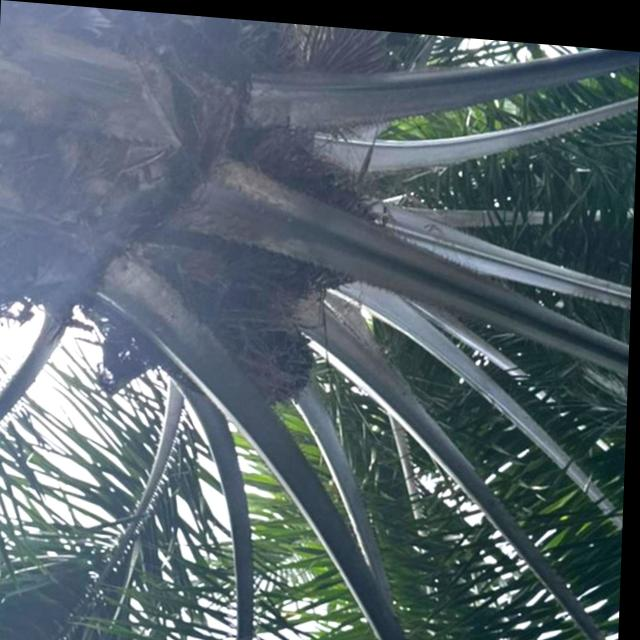unripe: (223, 125, 389, 289), (187, 275, 323, 409)
